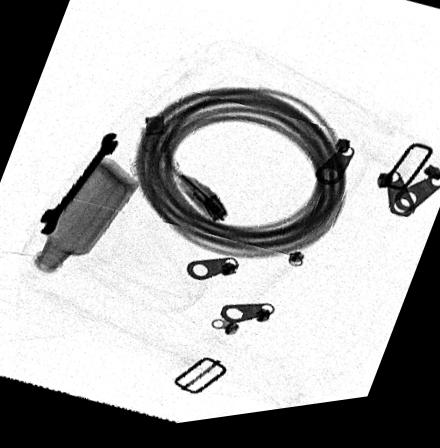Wrench: (39, 137, 117, 237)
